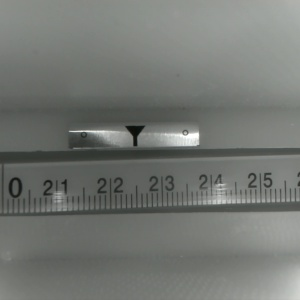0: (7, 177, 22, 198)
1: (59, 179, 67, 195)
2: (41, 179, 52, 195), (96, 177, 106, 193), (113, 177, 123, 193), (148, 176, 158, 191), (197, 174, 207, 189), (246, 173, 256, 188)
3: (164, 175, 173, 191)
4: (213, 174, 223, 188)
5: (263, 172, 272, 188)
finger: (123, 126, 145, 147)
